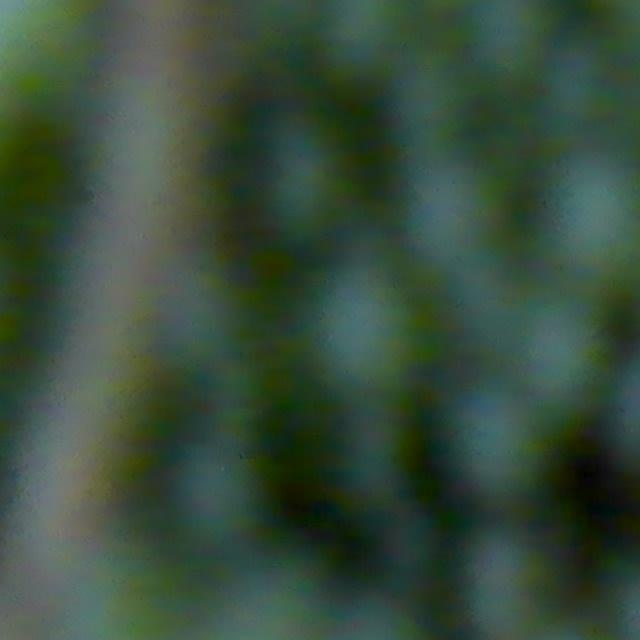SeaGrape: (305, 269, 422, 396), (387, 158, 507, 270), (546, 161, 640, 290), (450, 390, 550, 502), (453, 0, 567, 88), (528, 284, 616, 396), (170, 447, 268, 547), (460, 525, 552, 619)
